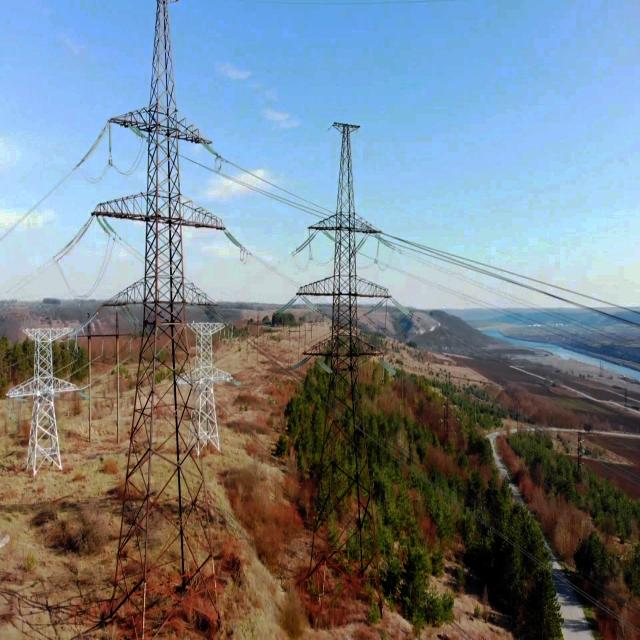poles: (90, 0, 227, 638), (296, 121, 390, 618), (6, 326, 79, 477), (175, 321, 234, 456), (73, 311, 133, 442)
wires: (379, 233, 640, 327), (0, 120, 144, 244), (181, 155, 329, 217), (202, 142, 329, 211), (10, 212, 117, 290), (222, 228, 299, 287), (81, 219, 116, 297), (97, 217, 140, 260), (54, 258, 85, 298), (292, 230, 335, 255)
